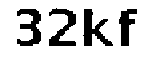2: (47, 6, 78, 52)
3: (14, 8, 45, 49)
f: (119, 6, 142, 53)
k: (81, 6, 114, 52)
